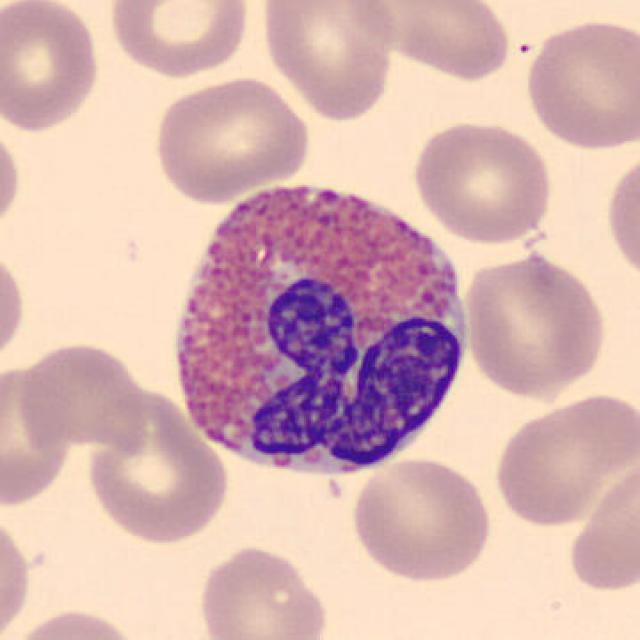Eosinophil: (155, 155, 487, 497)
RBC: (82, 388, 233, 546), (458, 249, 610, 400), (147, 72, 313, 204), (489, 391, 636, 529), (347, 453, 496, 585), (409, 116, 556, 247), (7, 336, 153, 464), (256, 0, 400, 123), (521, 14, 638, 153), (342, 0, 516, 81), (0, 0, 103, 136), (194, 541, 332, 640), (0, 353, 78, 513), (104, 0, 252, 79), (563, 456, 640, 597), (602, 146, 640, 289), (5, 604, 145, 640), (0, 504, 34, 640), (0, 243, 28, 373), (0, 115, 23, 242)
